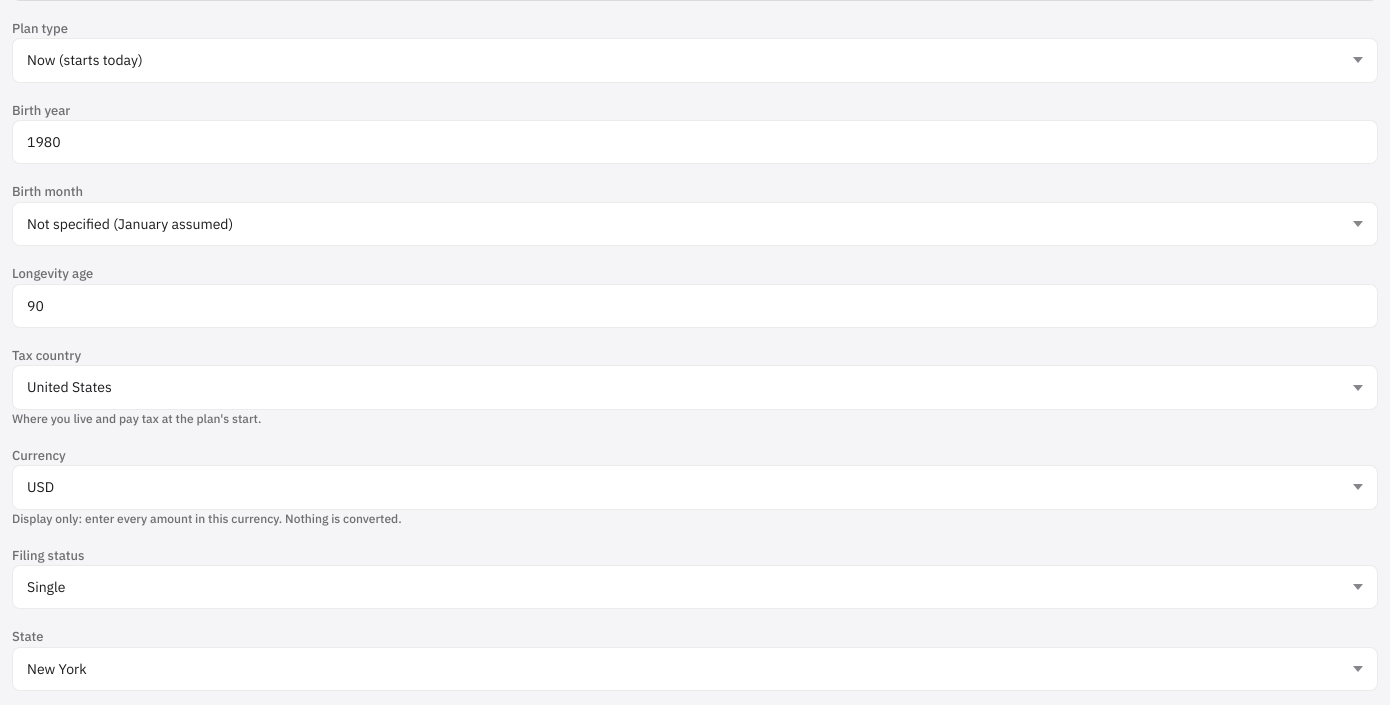
Test: plan locality › shows the saved locality and clears it with a state change
Select "Pennsylvania" in the dropdown labelled "State" at (695, 669), box [12,647,1378,691]
(page scrolled)
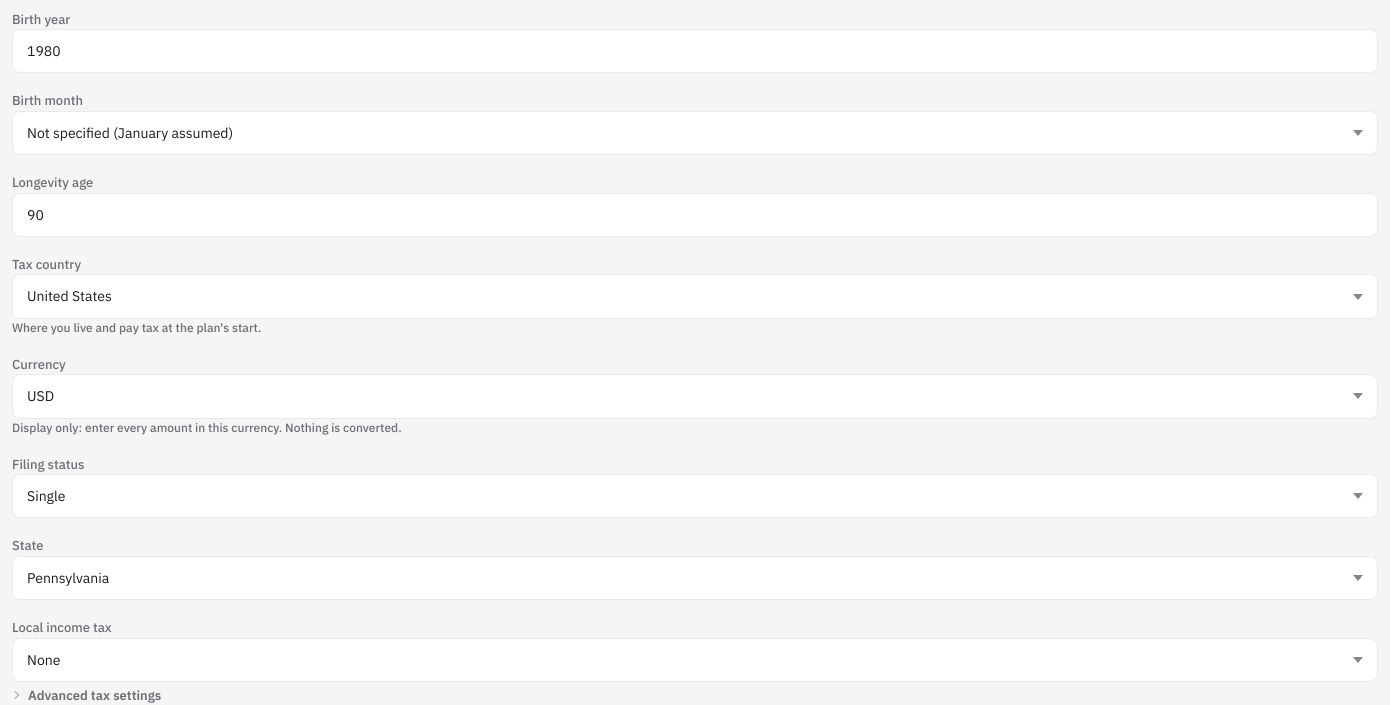
Check: the dropdown labelled "Local income tax" shows "None", box [12,638,1378,682]
